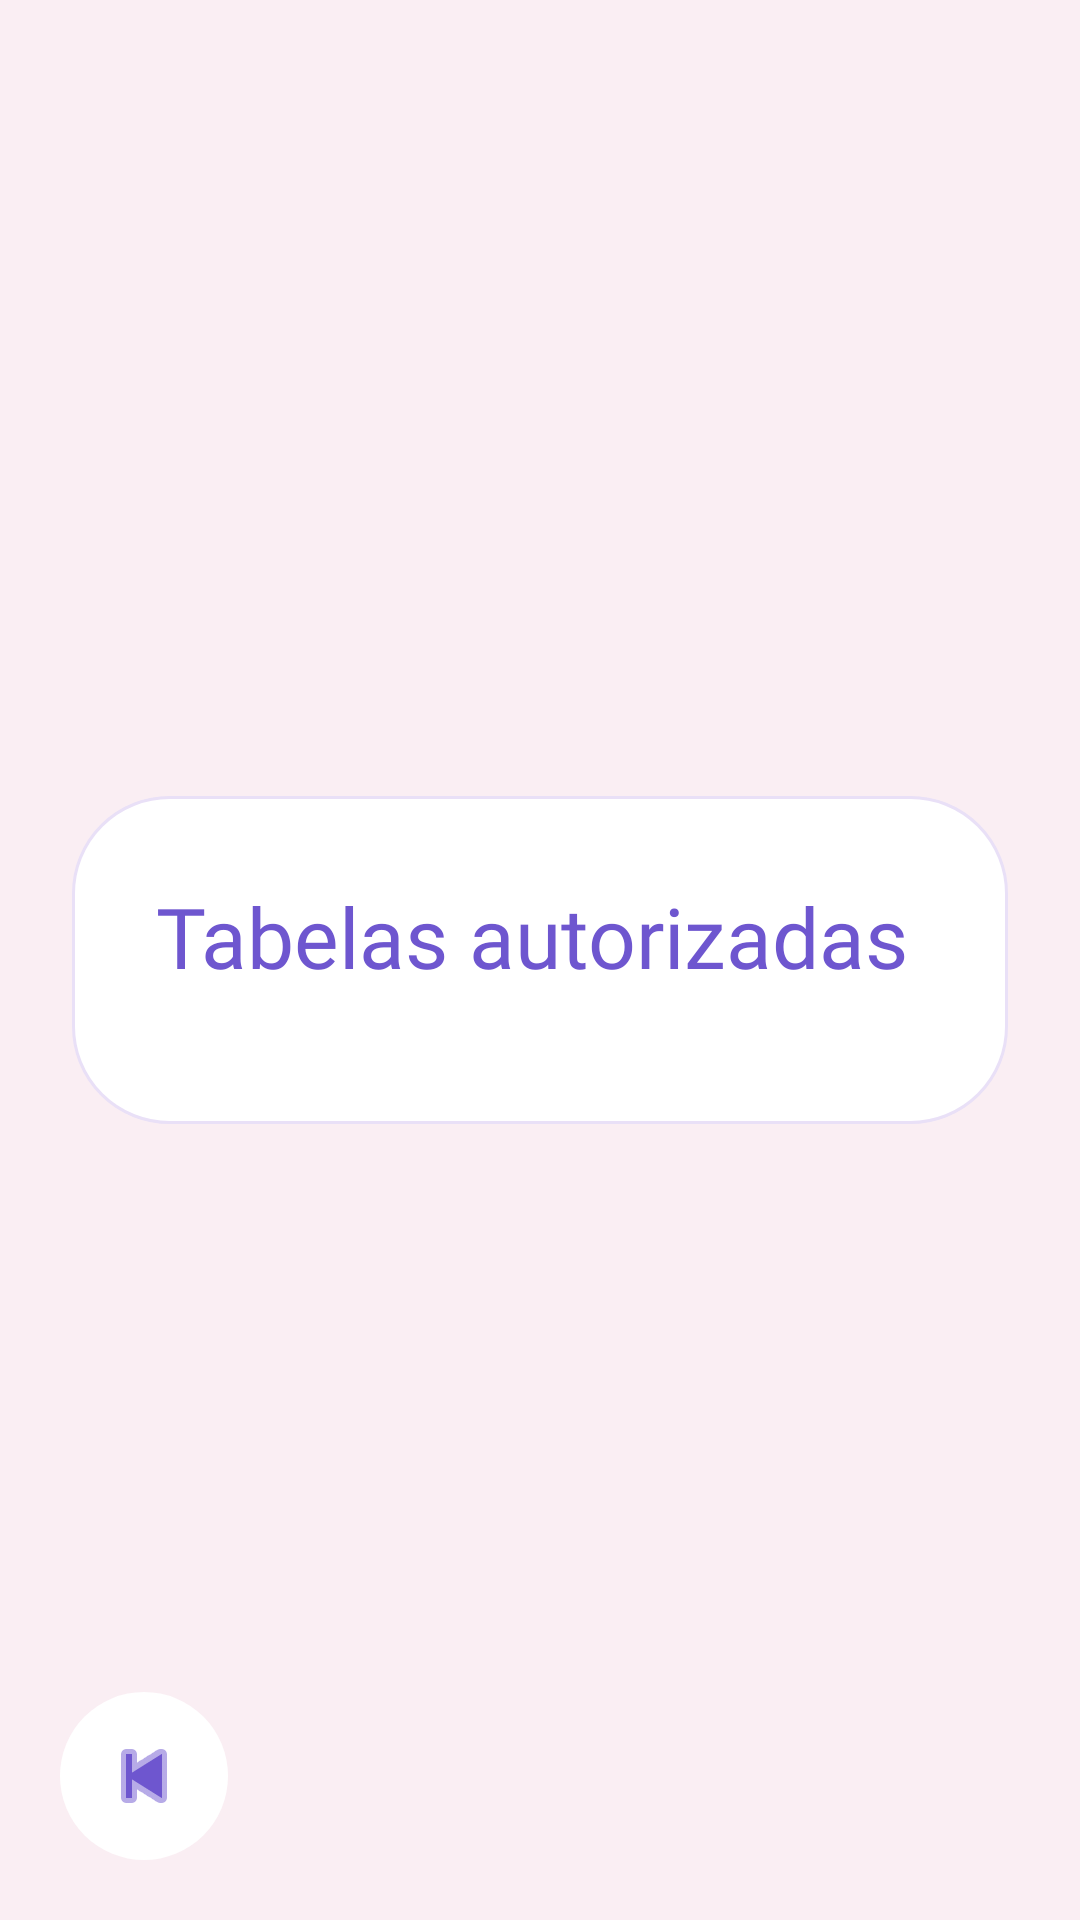

Named icons in this screenshot (1080 x 1920) and their bounding boxes, (x1, y1, x2, y2):
previous: (121, 1749, 167, 1803)
